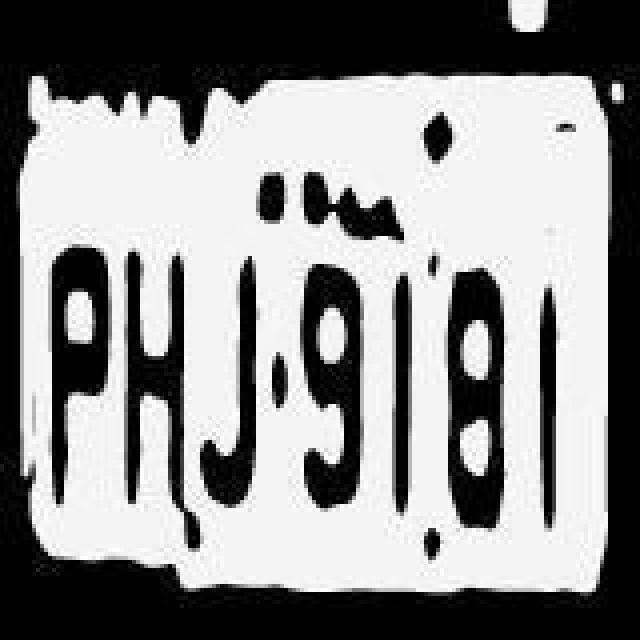1: (532, 260, 588, 540), (380, 268, 428, 524)
8: (442, 258, 526, 526)
9: (292, 260, 372, 524)
H: (120, 230, 200, 506)
J: (202, 246, 278, 514)
P: (36, 236, 116, 516)
